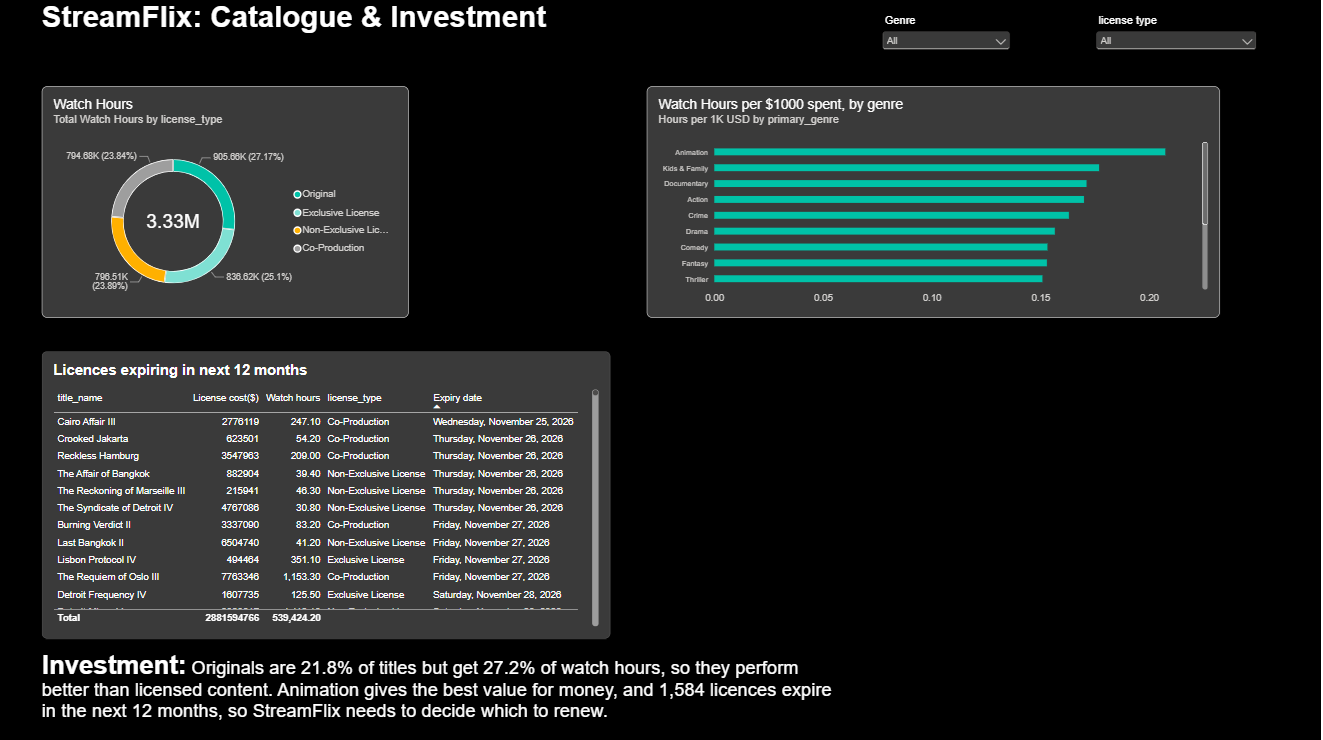

What the dashboard file says about the page in this screenshot:
{"tool":"powerbi","page":{"name":"Investment","canvas":[1920,1080],"ordinal":4},"visuals":[{"type":"textbox","box":[63.8,0,895.4,90.6],"z":0},{"type":"donutChart","title":"Watch Hours","fields":{"Category":["clean_titles.license_type"],"Y":["clean_watch_history.Total Watch Hours"]},"box":[63.8,125.6,531,335.5],"z":1},{"type":"clusteredBarChart","title":"Watch Hours per $1000 spent, by genre","fields":{"Category":["clean_titles.primary_genre"],"Y":["clean_watch_history.Hours per 1K USD"]},"box":[938.6,125.6,829.5,335.5],"z":2},{"type":"tableEx","title":"Licences expiring in next 12 months","fields":{"Values":["clean_titles.title_name","Sum(clean_titles.license_cost_usd)","Sum(clean_titles.total_watch_hours)","clean_titles.license_type","clean_titles.license_expiry"]},"box":[63.8,508.4,823.3,415.8],"z":3},{"type":"slicer","fields":{"Values":["clean_titles.license_type"]},"box":[1584.9,20.6,240.8,61.7],"z":4},{"type":"slicer","fields":{"Values":["clean_titles.primary_genre"]},"box":[1276.2,20.6,193.5,70],"z":5},{"type":"textbox","box":[63.8,940.7,1165,140],"z":6}]}

Visuals, with their boxes in screenshot pixels (x1, y1, x2, y2), scaled from the page's 1920x1080 canvas onto the 1323x740 screenshot:
textbox: [44, 0, 661, 62]
"Watch Hours" donutChart: [44, 86, 410, 316]
"Watch Hours per $1000 spent, by genre" clusteredBarChart: [647, 86, 1218, 316]
"Licences expiring in next 12 months" tableEx: [44, 348, 611, 633]
slicer - clean_titles.license_type: [1092, 14, 1258, 56]
slicer - clean_titles.primary_genre: [879, 14, 1013, 62]
textbox: [44, 645, 847, 739]
